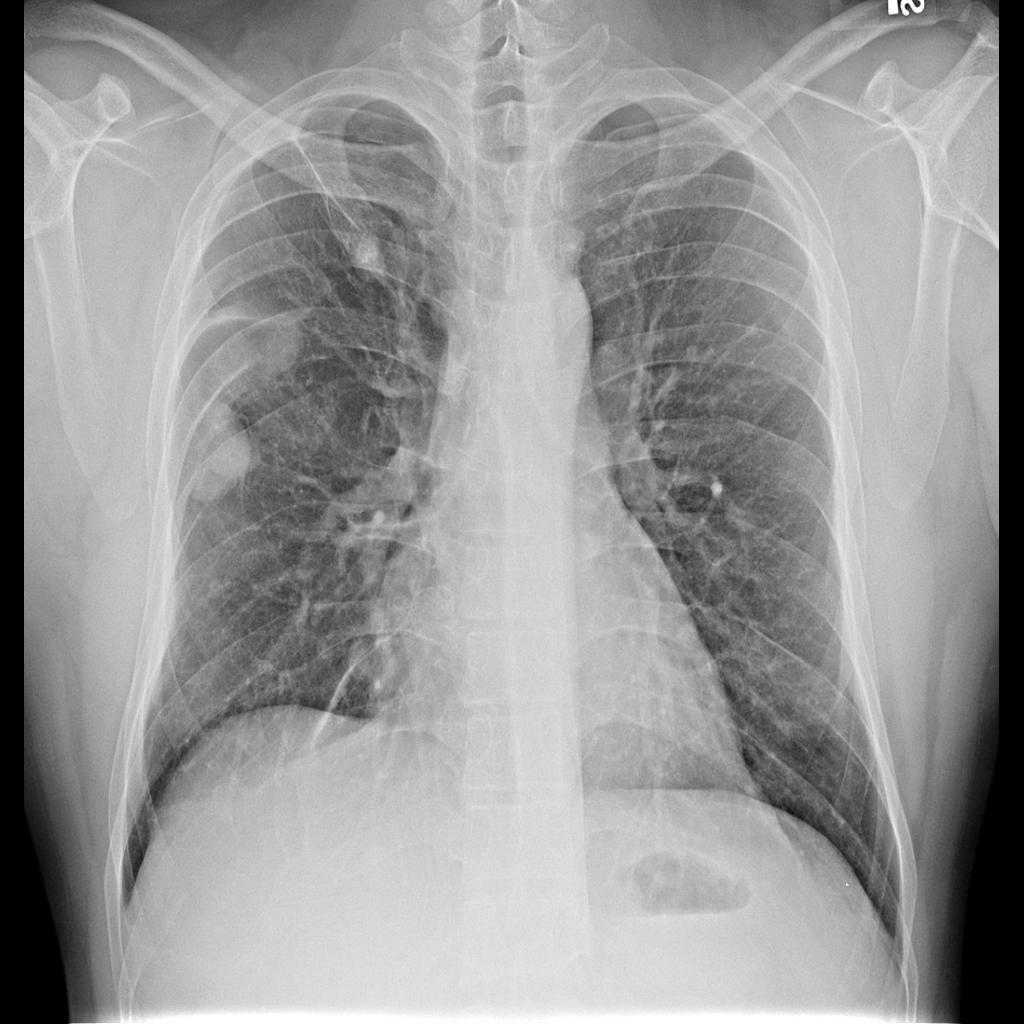Nodule: (208, 314, 305, 404), (202, 420, 259, 501), (346, 236, 385, 273)
